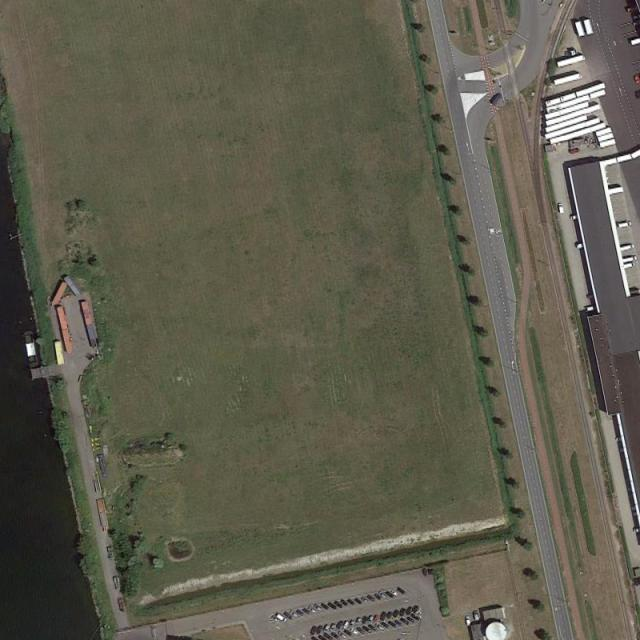vehicle: (275, 612, 288, 622), (618, 243, 634, 251), (387, 619, 398, 630), (616, 221, 632, 228), (622, 256, 638, 263), (410, 614, 421, 624), (313, 603, 324, 613), (282, 611, 293, 621), (624, 260, 637, 268), (362, 624, 372, 634), (338, 630, 348, 640), (350, 627, 360, 637), (334, 599, 344, 609), (399, 617, 410, 626), (374, 622, 385, 631), (355, 626, 366, 635), (385, 590, 396, 599), (360, 596, 371, 605), (380, 622, 392, 630), (367, 623, 377, 632), (323, 631, 333, 640), (339, 598, 349, 607), (346, 598, 356, 607), (353, 597, 363, 606), (378, 591, 388, 600), (390, 589, 400, 598), (396, 586, 406, 595), (330, 632, 341, 640), (366, 594, 377, 602), (327, 602, 338, 610), (306, 606, 317, 614), (373, 593, 382, 602), (394, 619, 404, 627), (310, 625, 318, 635), (344, 630, 354, 638), (392, 608, 400, 618), (319, 602, 329, 610), (558, 203, 564, 216), (634, 72, 640, 85), (406, 615, 414, 624), (474, 610, 480, 622), (336, 621, 344, 630), (323, 623, 331, 632), (406, 606, 414, 615), (386, 610, 394, 619), (290, 610, 299, 618), (349, 620, 356, 630), (355, 616, 362, 626), (466, 614, 471, 627), (412, 605, 420, 613), (343, 621, 350, 630), (399, 608, 406, 617), (296, 609, 305, 616), (380, 611, 386, 621), (635, 575, 640, 587), (330, 624, 337, 632), (362, 616, 369, 624), (302, 608, 310, 615), (318, 634, 327, 640), (368, 615, 374, 624), (374, 614, 380, 623), (634, 91, 640, 100), (317, 624, 322, 634), (570, 214, 578, 219), (634, 577, 638, 586), (311, 636, 318, 640)
